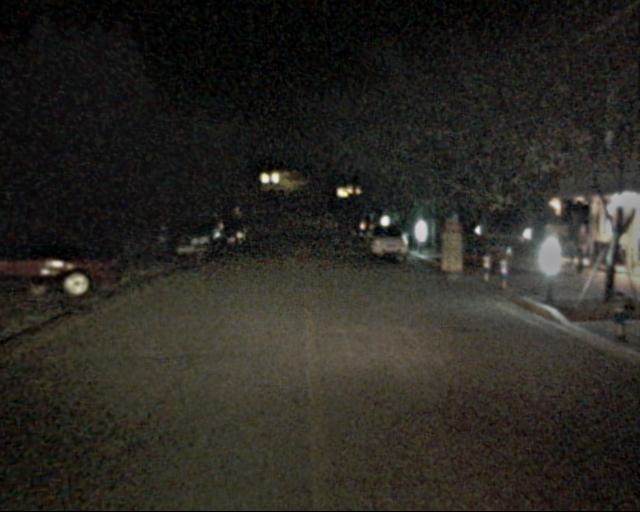person: (532, 221, 559, 288), (568, 224, 591, 280)
